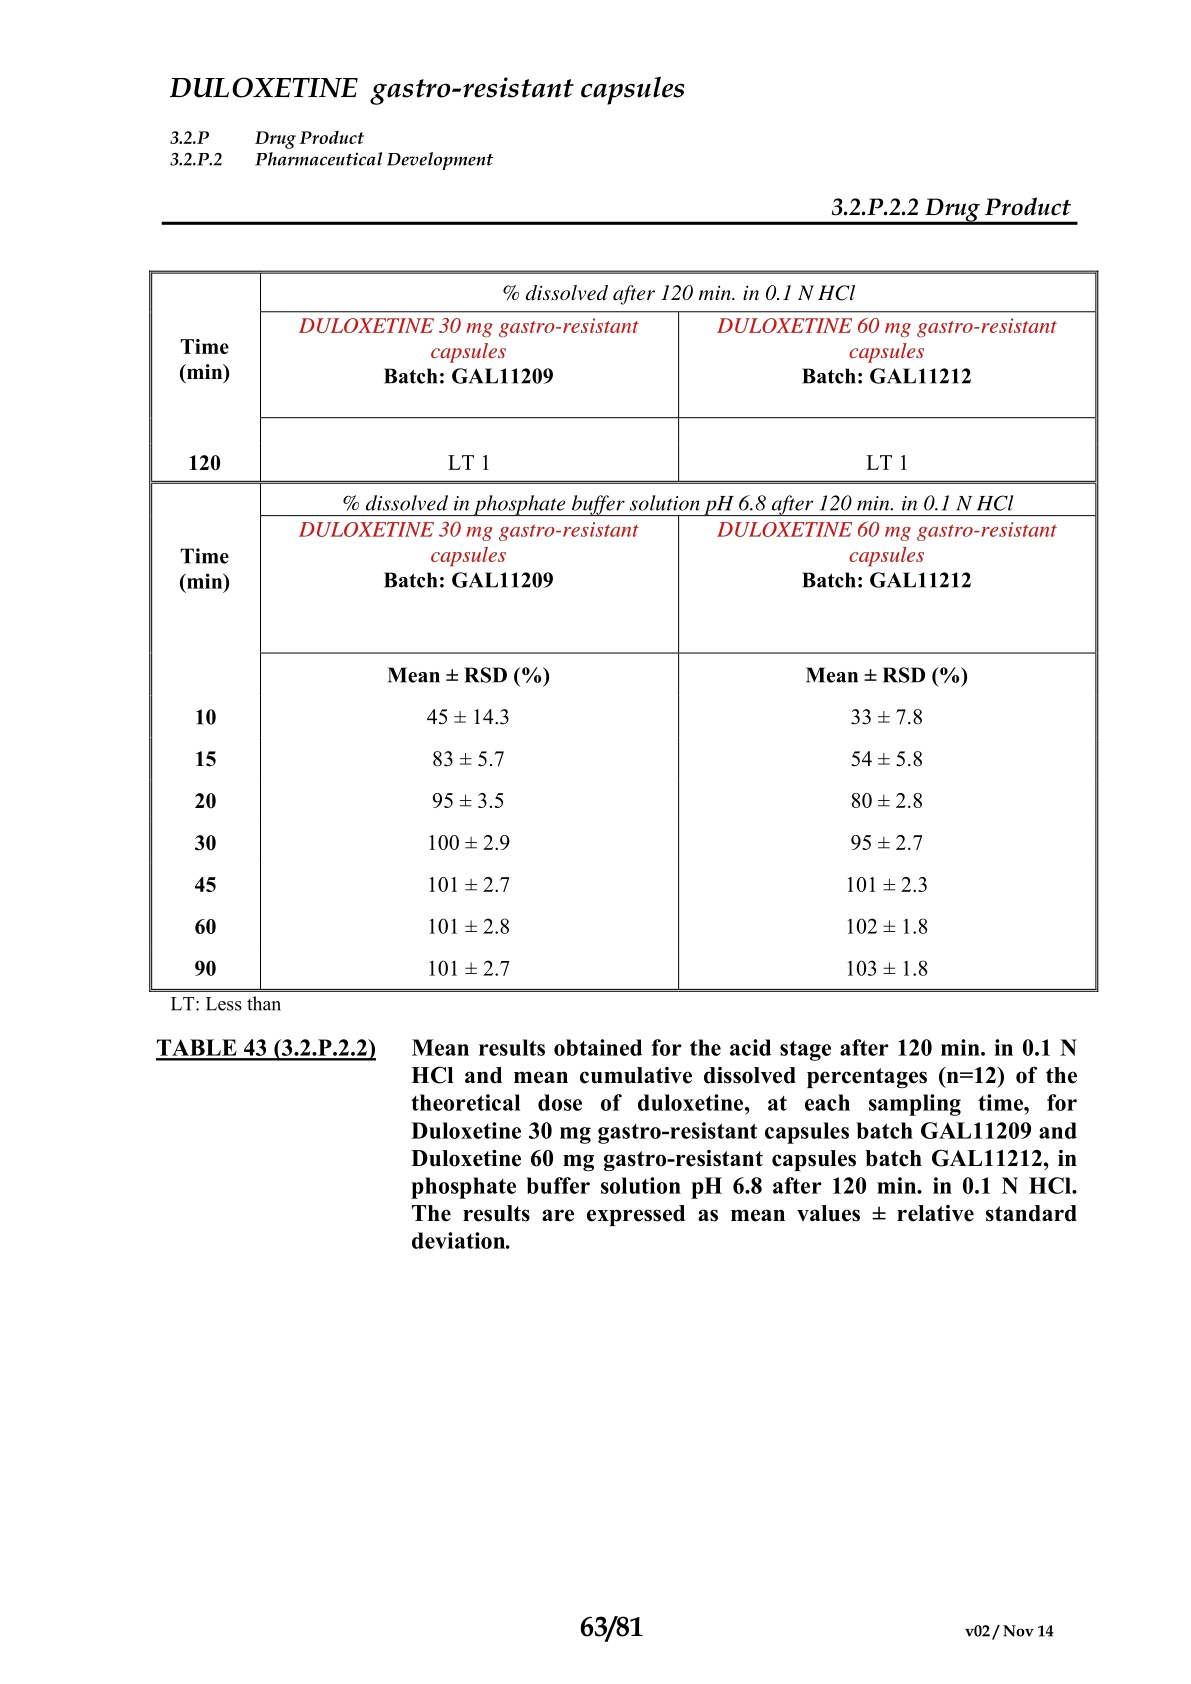merged_cells: (148, 269, 1099, 993)
